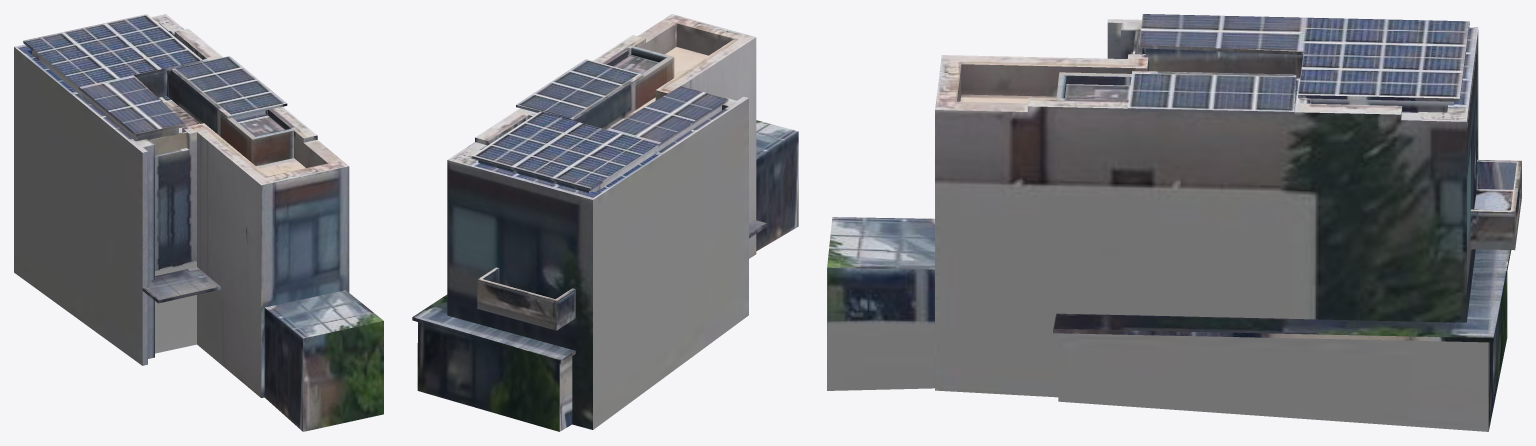
The picture shows the model from 3 angles, left to right: view 1: azimuth 30°, elevation 25°; view 2: azimuth 150°, elevation 25°; view 3: azimuth 270°, elevation 25°; orthographic projection. The views are drawn at different scales.
Visible parts, largest first — view 1: B285624033701062A0; view 2: B285624033701062A0; view 3: B285624033701062A0.
Boxes of the visible parts, left/top/right/bottom form: B285624033701062A0: left=14, top=14, right=383, bottom=431; B285624033701062A0: left=412, top=14, right=798, bottom=431; B285624033701062A0: left=827, top=14, right=1521, bottom=431.
Bounding box in the file's own units: 7.89 × 9.52 × 19.5.
Materials: 1 (1 with a texture image).
